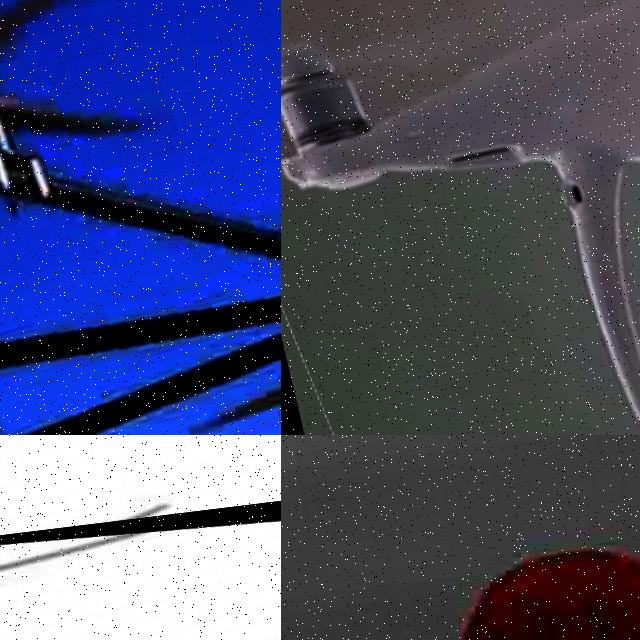drone: (281, 0, 640, 435), (0, 0, 281, 435), (0, 487, 281, 640)
